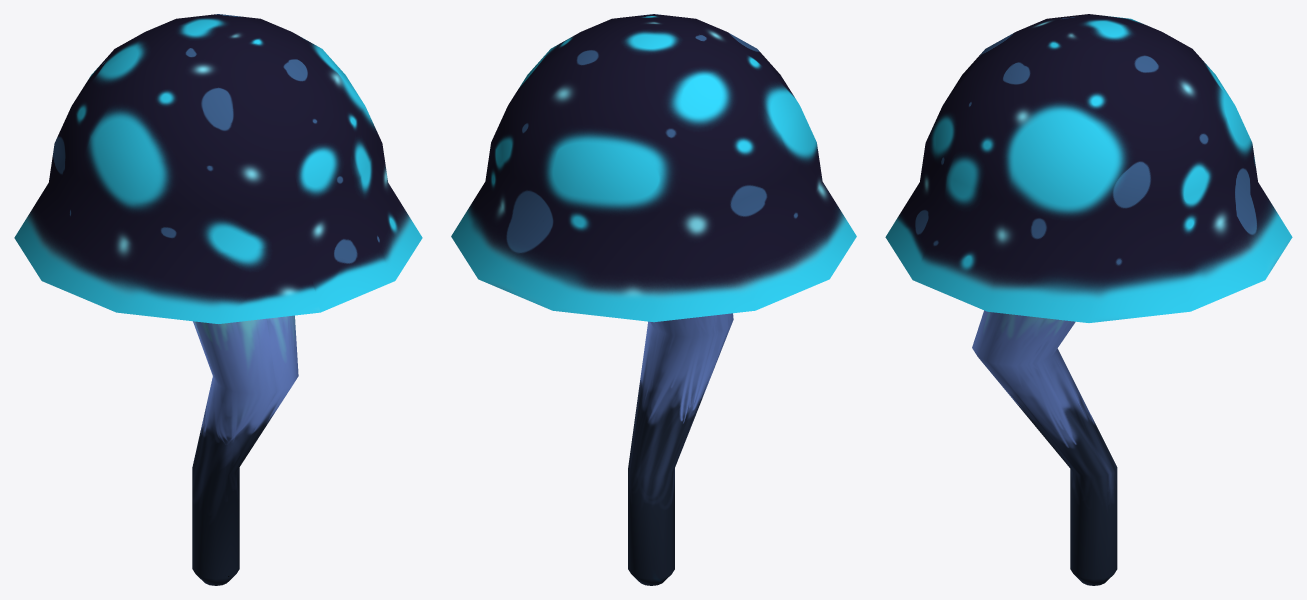
File: mushroom.glb
3 renders of one model, left to right at view 1: azimuth 30°, elevation 25°; view 2: azimuth 150°, elevation 25°; view 3: azimuth 270°, elevation 25°, orthographic.
Parts seen in each view (by area): view 1: pSphere2; view 2: pSphere2; view 3: pSphere2.
Boxes of the visible parts, x1=… form: pSphere2: x1=14, y1=14, x2=422, y2=585; pSphere2: x1=451, y1=14, x2=856, y2=585; pSphere2: x1=885, y1=14, x2=1292, y2=585.
Size of the model in its own units: 2.41 by 3.6 by 2.41.
1 material, 1 textured.
